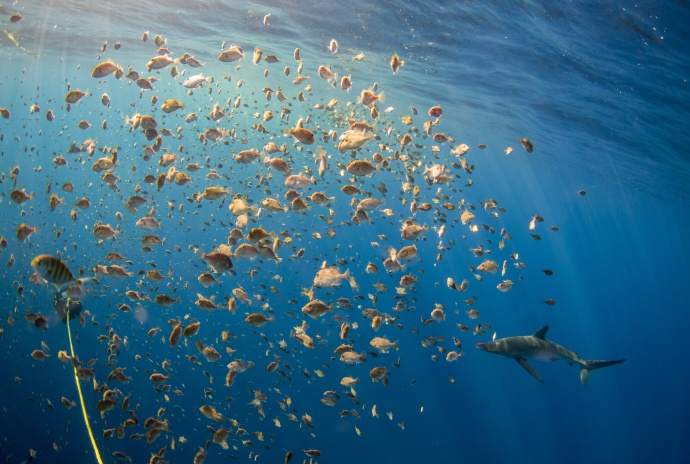Sedoso: (476, 323, 632, 392)
